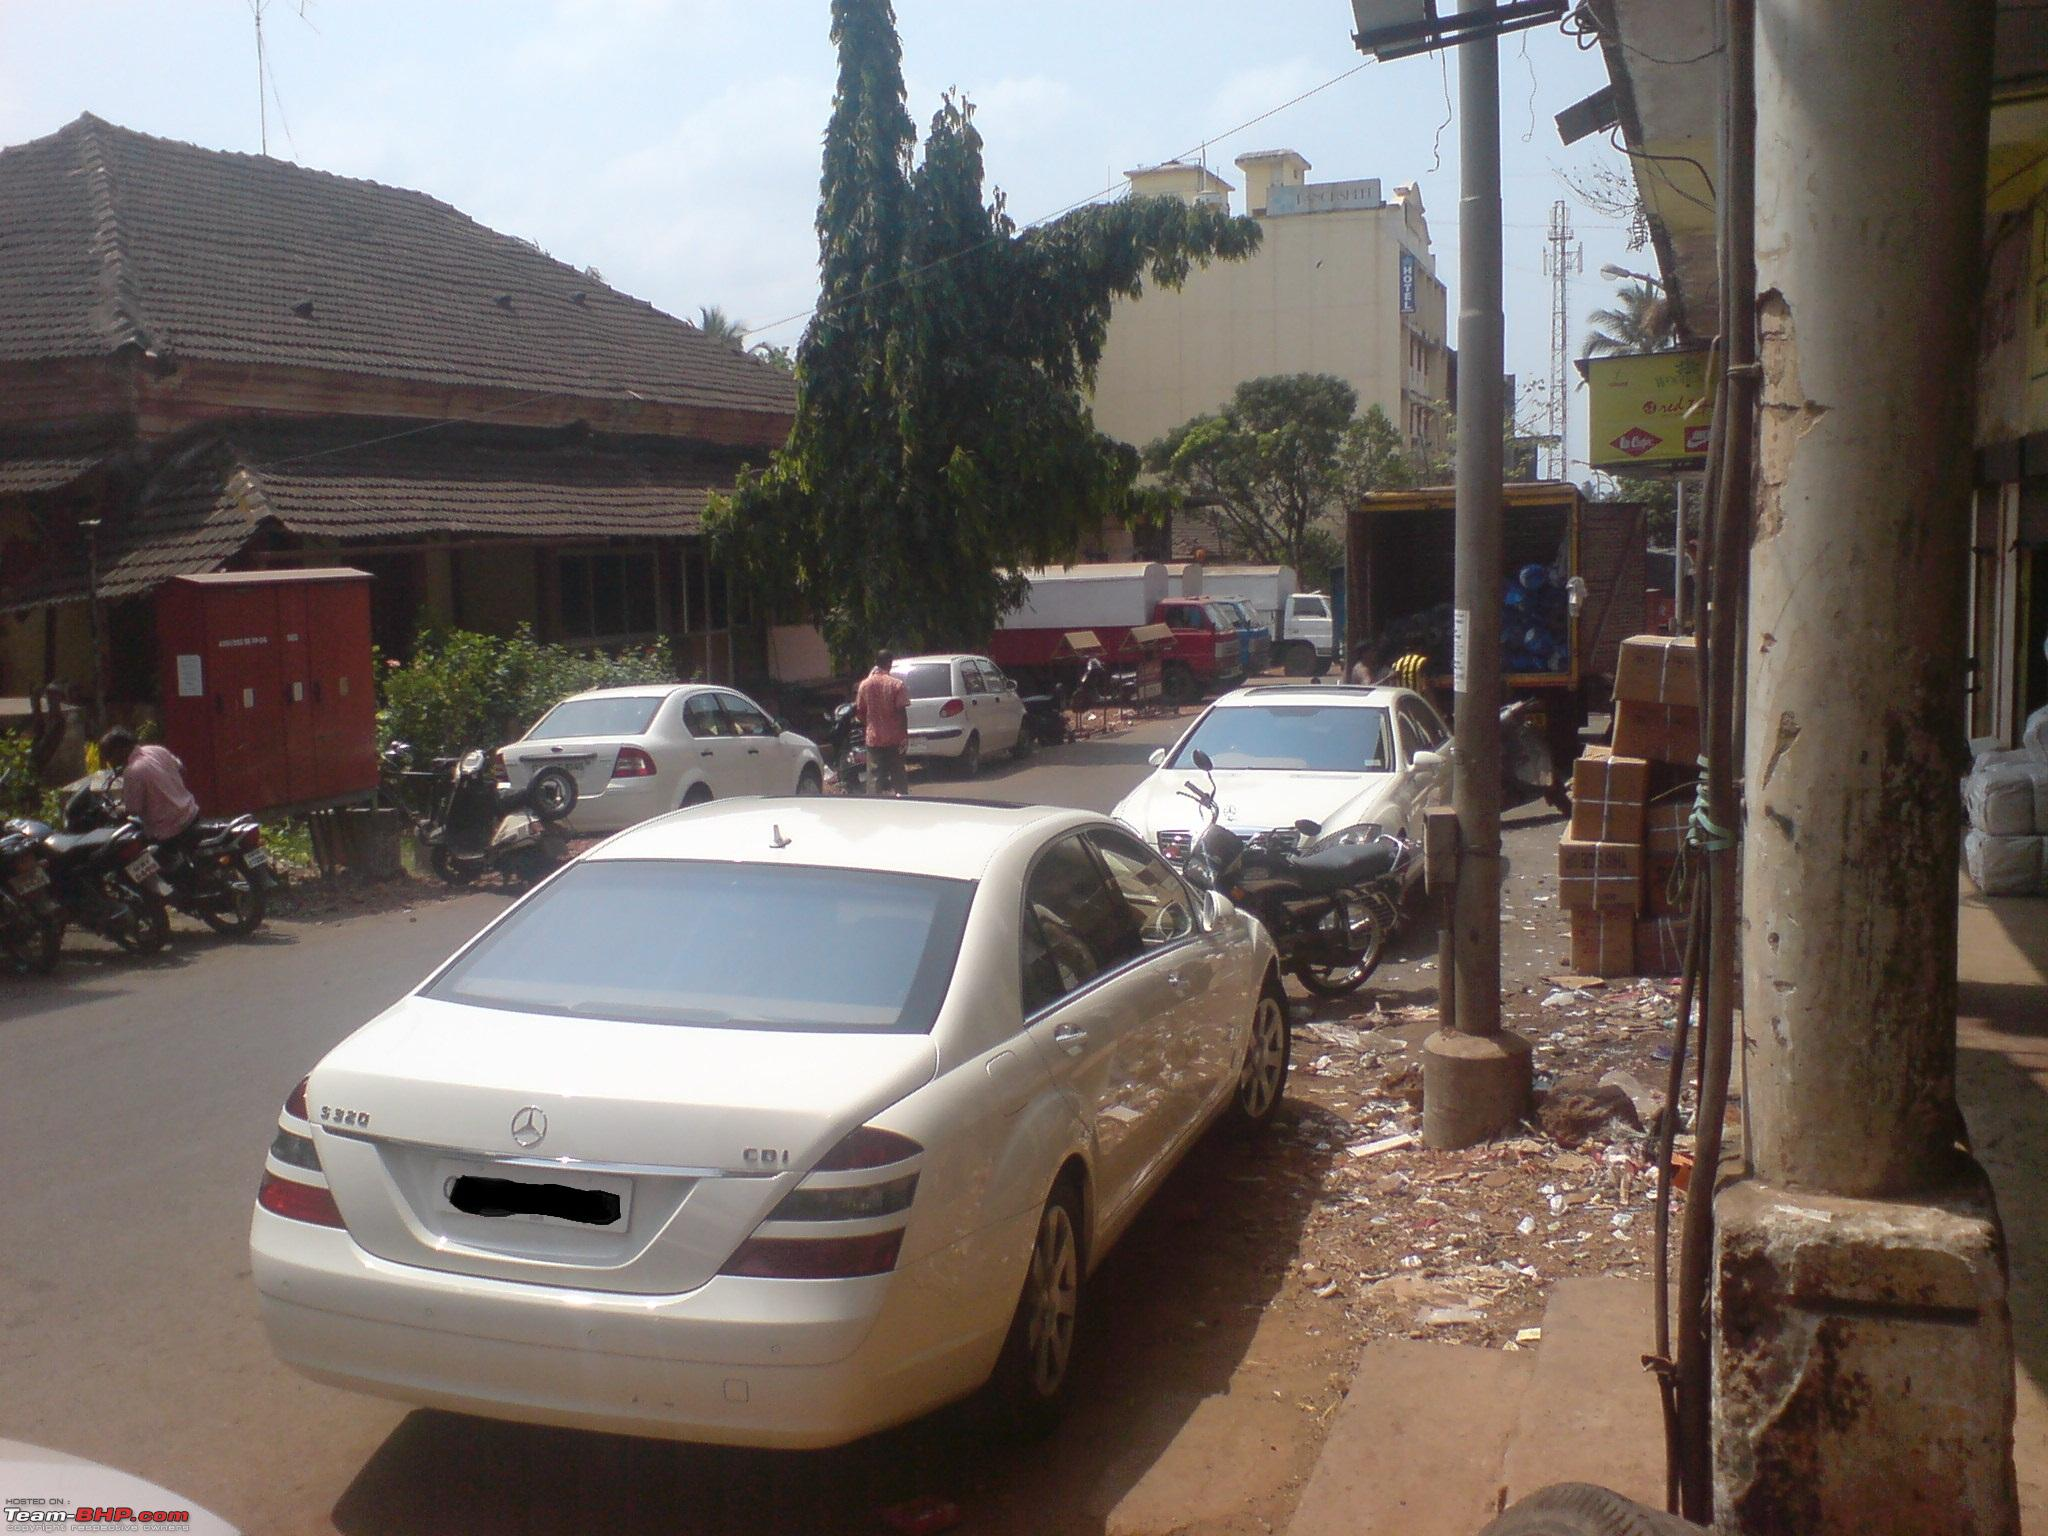car: (238, 790, 1297, 1467), (1103, 659, 1478, 967), (490, 682, 824, 838), (978, 565, 1251, 709), (886, 653, 1034, 776), (1261, 555, 1336, 674)
motor bike: (1163, 778, 1413, 1009), (49, 774, 282, 961), (422, 747, 559, 905)
person: (97, 720, 207, 872), (857, 655, 915, 805)
